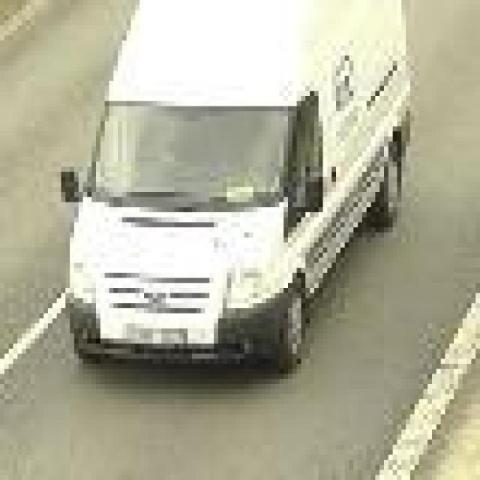van: (70, 0, 410, 369)
